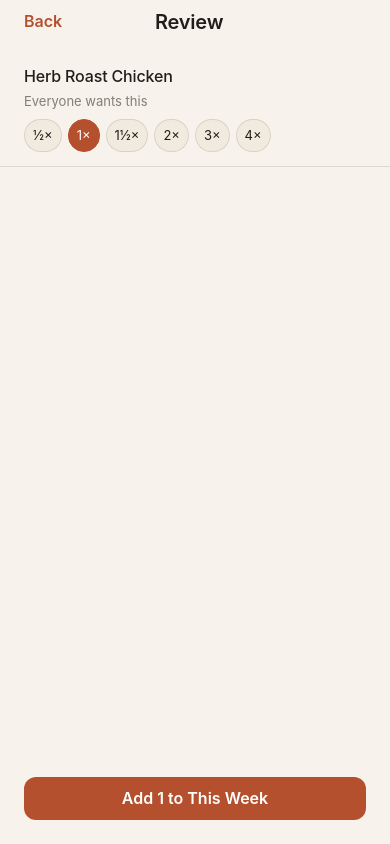
Scenario: group round (#242) › tells whoever lost a simultaneous add that it was already added
Expected: the text "Herb Roast Chicken" is shown, [24, 66, 173, 86]
Click the button with test id "review-submit" at (195, 798), box [24, 777, 366, 820]
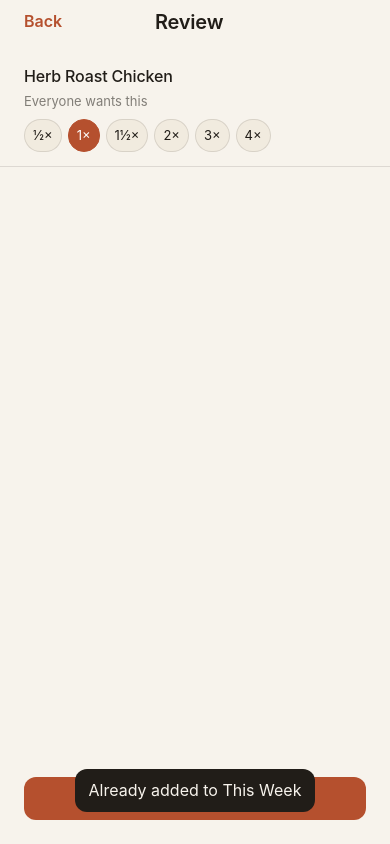
Expected: the text "Already added to This Week" is shown, [88, 777, 301, 804]
